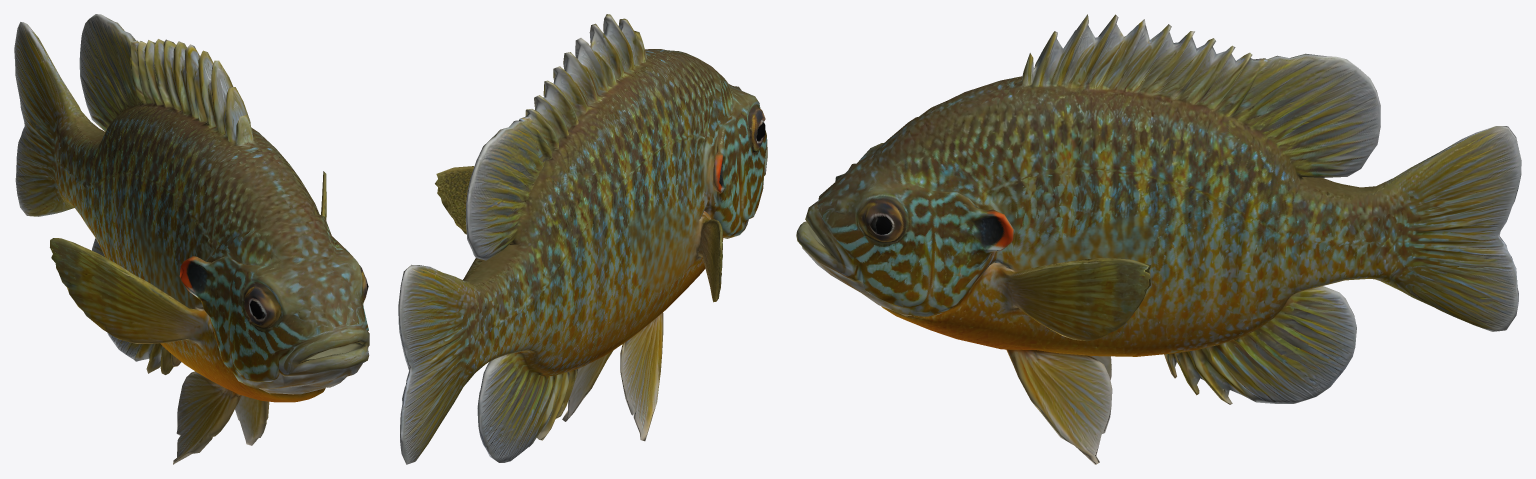
The model's file is fish-sunfish.glb.
3 views of the same model, side by side, from view 1: azimuth 30°, elevation 25°; view 2: azimuth 150°, elevation 25°; view 3: azimuth 270°, elevation 25° (orthographic). The views are drawn at different scales.
Parts seen in each view (by area): view 1: tripo_node_85d40fa5-e7fc-46da-90a3-33cbc2ab0547; view 2: tripo_node_85d40fa5-e7fc-46da-90a3-33cbc2ab0547; view 3: tripo_node_85d40fa5-e7fc-46da-90a3-33cbc2ab0547.
Part boxes in pixels (x1,y1,x2,y2): tripo_node_85d40fa5-e7fc-46da-90a3-33cbc2ab0547: [14, 14, 369, 464]; tripo_node_85d40fa5-e7fc-46da-90a3-33cbc2ab0547: [398, 14, 767, 464]; tripo_node_85d40fa5-e7fc-46da-90a3-33cbc2ab0547: [796, 14, 1521, 464].
Bounding box in the file's own units: 0.1449 × 0.2 × 0.3056.
Materials: 1 (1 with a texture image).
